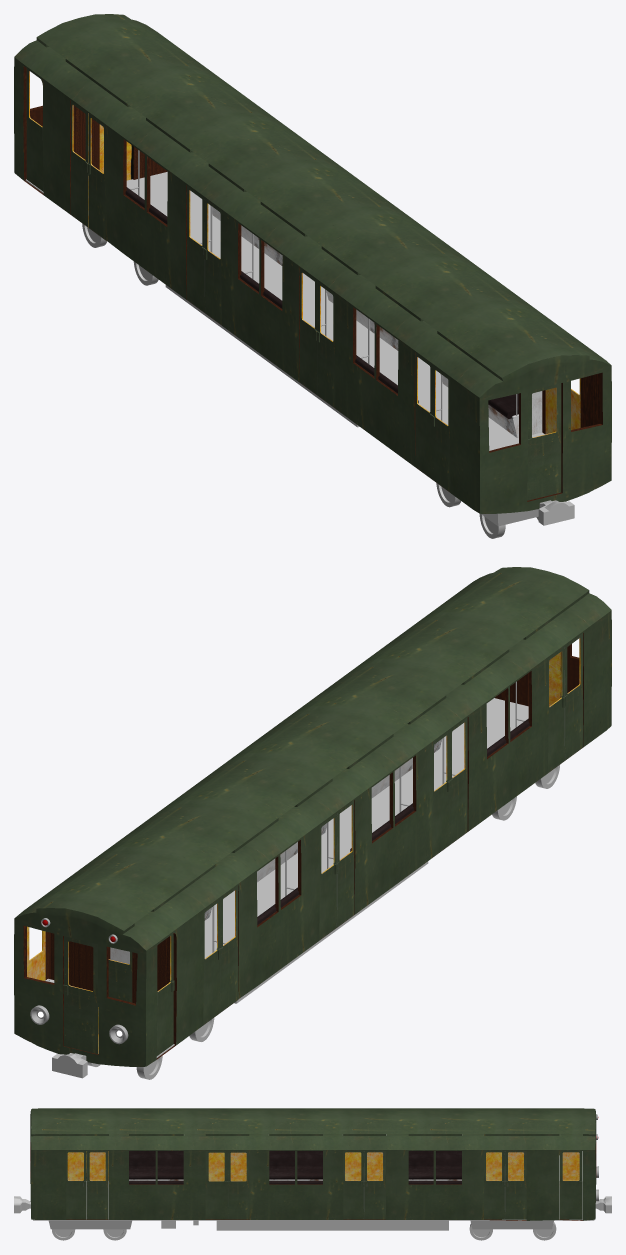
The picture shows the model from 3 angles, top to bottom: view 1: azimuth 30°, elevation 25°; view 2: azimuth 150°, elevation 25°; view 3: azimuth 270°, elevation 25°; orthographic projection. The views are drawn at different scales.
Parts seen in each view (by area): view 1: MetrowagonA_wagon_103, Cube.001_3, Door.016_45, Door.012_41, Door.013_42, Door.014_43, Door.011_40, Door.008_37, Cube_104, Door.015_44, Door.009_38, Door.010_39 (+3 smaller); view 2: MetrowagonA_wagon_103, Cube.001_3, Door.017_46, Cube_104, Door.009_38, Door.013_42, Door.014_43, Door.010_39, Door.011_40, Door.012_41, Door.008_37, Door.015_44 (+3 smaller); view 3: MetrowagonA_wagon_103, Bogey.003_19, Seat.004_80, Seat.005_81, Seat.002_78, Door.019_48, Door_29, Door.001_30, Door.002_31, Door.005_34, Door.006_35, Door.003_32 (+23 smaller).
Boxes of the visible parts, x1,y1,x2,y2 form: MetrowagonA_wagon_103: (14, 14, 611, 513); Cube.001_3: (25, 172, 544, 450); Door.016_45: (527, 383, 561, 500); Door.012_41: (299, 268, 317, 394); Door.013_42: (316, 281, 335, 408); Door.014_43: (431, 365, 450, 492); Door.011_40: (187, 186, 204, 312); Door.008_37: (71, 101, 88, 227); Cube_104: (73, 105, 167, 179); Door.015_44: (415, 353, 432, 479); Door.009_38: (87, 113, 106, 240); Door.010_39: (204, 199, 221, 325); MetrowagonA_wagon_103: (14, 567, 611, 1066); Cube.001_3: (15, 698, 528, 1057); Door.017_46: (63, 936, 98, 1054); Cube_104: (50, 933, 169, 1003); Door.009_38: (220, 885, 238, 1012); Door.013_42: (449, 718, 467, 844); Door.014_43: (565, 633, 582, 760); Door.010_39: (337, 801, 354, 927); Door.011_40: (319, 813, 337, 940); Door.012_41: (432, 731, 450, 857); Door.008_37: (203, 899, 221, 1025); Door.015_44: (548, 646, 565, 772); MetrowagonA_wagon_103: (30, 1108, 596, 1220); Bogey.003_19: (216, 1220, 448, 1230); Seat.004_80: (129, 1151, 183, 1179); Seat.005_81: (269, 1151, 322, 1179); Seat.002_78: (408, 1151, 461, 1179); Door.019_48: (559, 1151, 582, 1219); Door_29: (205, 1151, 227, 1219); Door.001_30: (227, 1151, 249, 1219); Door.002_31: (87, 1151, 108, 1219); Door.005_34: (364, 1151, 385, 1219); Door.006_35: (505, 1151, 526, 1219); Door.003_32: (66, 1151, 86, 1219).
Size of the model in its own units: 3.88 by 5.29 by 24.71.
